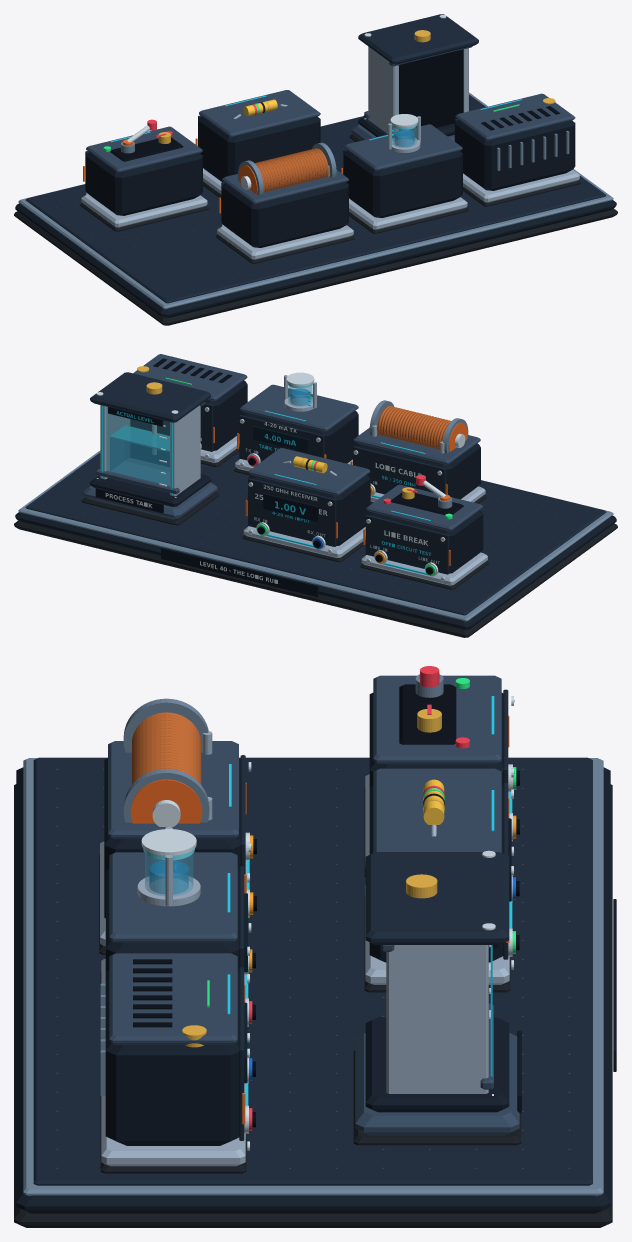
Rendered from Level40_Complete_Display_Assembly.fbx.
The picture shows the model from 3 angles, top to bottom: view 1: azimuth 30°, elevation 25°; view 2: azimuth 150°, elevation 25°; view 3: azimuth 270°, elevation 25°; orthographic projection. The views are drawn at different scales.
Parts seen in each view (by area): view 1: 00_Board_Optional_Display__BOARD_Pegboard_Mat, 00_Board_Optional_Display__BOARD_Graphite_Workbench, 03_50_350Ohm_Cable__CABLE_Chassis, 02_4to20mA_Transmitter__TX_Chassis, 01_12V_Supply__PSU_Chassis, 04_Line_Break_Switch__BREAK_Chassis, 00_Board_Optional_Display__BOARD_Black_RubberUnderlay, 05_250Ohm_Receiver__RX_Chassis, 06_Process_Tank__TANK_Back_Interior, 00_Board_Optional_Display__BOARD_Steel_Frame, 06_Process_Tank__TANK_Industrial_TopCover, 05_250Ohm_Receiver__RX_Top_Lid (+16 smaller); view 2: 00_Board_Optional_Display__BOARD_Pegboard_Mat, 00_Board_Optional_Display__BOARD_Graphite_Workbench, 00_Board_Optional_Display__BOARD_Black_RubberUnderlay, 00_Board_Optional_Display__BOARD_Steel_Frame, 06_Process_Tank__TANK_Transparent_Front_Wall, 06_Process_Tank__TANK_Industrial_TopCover, 05_250Ohm_Receiver__RX_Front_Console_Plate, 04_Line_Break_Switch__BREAK_Front_Console_Plate, 05_250Ohm_Receiver__RX_Top_Lid, 02_4to20mA_Transmitter__TX_Top_Lid, 03_50_350Ohm_Cable__CABLE_Front_Console_Plate, 06_Process_Tank__TANK_GuidePillar_-0.91 (+29 smaller); view 3: 00_Board_Optional_Display__BOARD_Pegboard_Mat, 00_Board_Optional_Display__BOARD_Graphite_Workbench, 00_Board_Optional_Display__BOARD_Steel_Frame, 06_Process_Tank__TANK_GuidePillar_+0.91, 01_12V_Supply__PSU_Chassis, 06_Process_Tank__TANK_Industrial_TopCover, 00_Board_Optional_Display__BOARD_Black_RubberUnderlay, 01_12V_Supply__PSU_Top_Lid, 05_250Ohm_Receiver__RX_Top_Lid, 02_4to20mA_Transmitter__TX_Top_Lid, 04_Line_Break_Switch__BREAK_Top_Lid, 03_50_350Ohm_Cable__CABLE_Top_Lid (+20 smaller).
Part boxes in pixels (x1=…): 00_Board_Optional_Display__BOARD_Pegboard_Mat: x1=25, y1=94, x2=606, y2=303; 00_Board_Optional_Display__BOARD_Graphite_Workbench: x1=15, y1=200, x2=616, y2=317; 03_50_350Ohm_Cable__CABLE_Chassis: x1=222, y1=182, x2=348, y2=247; 02_4to20mA_Transmitter__TX_Chassis: x1=344, y1=150, x2=462, y2=217; 01_12V_Supply__PSU_Chassis: x1=455, y1=120, x2=575, y2=190; 04_Line_Break_Switch__BREAK_Chassis: x1=86, y1=152, x2=202, y2=215; 00_Board_Optional_Display__BOARD_Black_RubberUnderlay: x1=14, y1=208, x2=617, y2=325; 05_250Ohm_Receiver__RX_Chassis: x1=198, y1=116, x2=320, y2=181; 06_Process_Tank__TANK_Back_Interior: x1=399, y1=49, x2=463, y2=130; 00_Board_Optional_Display__BOARD_Steel_Frame: x1=18, y1=92, x2=613, y2=309; 06_Process_Tank__TANK_Industrial_TopCover: x1=358, y1=14, x2=478, y2=64; 05_250Ohm_Receiver__RX_Top_Lid: x1=199, y1=90, x2=320, y2=137; 00_Board_Optional_Display__BOARD_Pegboard_Mat: x1=25, y1=452, x2=606, y2=615; 00_Board_Optional_Display__BOARD_Graphite_Workbench: x1=15, y1=512, x2=616, y2=629; 00_Board_Optional_Display__BOARD_Black_RubberUnderlay: x1=14, y1=520, x2=617, y2=637; 00_Board_Optional_Display__BOARD_Steel_Frame: x1=18, y1=450, x2=613, y2=621; 06_Process_Tank__TANK_Transparent_Front_Wall: x1=106, y1=406, x2=169, y2=486; 06_Process_Tank__TANK_Industrial_TopCover: x1=90, y1=372, x2=210, y2=422; 05_250Ohm_Receiver__RX_Front_Console_Plate: x1=248, y1=478, x2=336, y2=546; 04_Line_Break_Switch__BREAK_Front_Console_Plate: x1=365, y1=515, x2=449, y2=574; 05_250Ohm_Receiver__RX_Top_Lid: x1=248, y1=448, x2=370, y2=495; 02_4to20mA_Transmitter__TX_Top_Lid: x1=240, y1=384, x2=358, y2=431; 03_50_350Ohm_Cable__CABLE_Front_Console_Plate: x1=353, y1=446, x2=446, y2=494; 06_Process_Tank__TANK_GuidePillar_-0.91: x1=170, y1=405, x2=200, y2=496; 00_Board_Optional_Display__BOARD_Pegboard_Mat: x1=33, y1=757, x2=592, y2=1185; 00_Board_Optional_Display__BOARD_Graphite_Workbench: x1=16, y1=767, x2=610, y2=1213; 00_Board_Optional_Display__BOARD_Steel_Frame: x1=23, y1=758, x2=603, y2=1196; 06_Process_Tank__TANK_GuidePillar_+0.91: x1=386, y1=945, x2=488, y2=1093; 01_12V_Supply__PSU_Chassis: x1=105, y1=970, x2=239, y2=1145; 06_Process_Tank__TANK_Industrial_TopCover: x1=365, y1=852, x2=509, y2=944; 00_Board_Optional_Display__BOARD_Black_RubberUnderlay: x1=14, y1=784, x2=612, y2=1227; 01_12V_Supply__PSU_Top_Lid: x1=109, y1=953, x2=237, y2=1044; 05_250Ohm_Receiver__RX_Top_Lid: x1=373, y1=768, x2=501, y2=852; 02_4to20mA_Transmitter__TX_Top_Lid: x1=109, y1=852, x2=237, y2=942; 04_Line_Break_Switch__BREAK_Top_Lid: x1=373, y1=675, x2=501, y2=764; 03_50_350Ohm_Cable__CABLE_Top_Lid: x1=108, y1=741, x2=238, y2=838.
Bounding box in the file's own units: 11.9 × 3.27 × 6.91.
